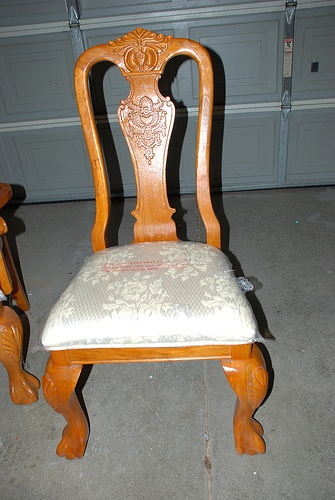obstacle: (41, 28, 267, 458)
